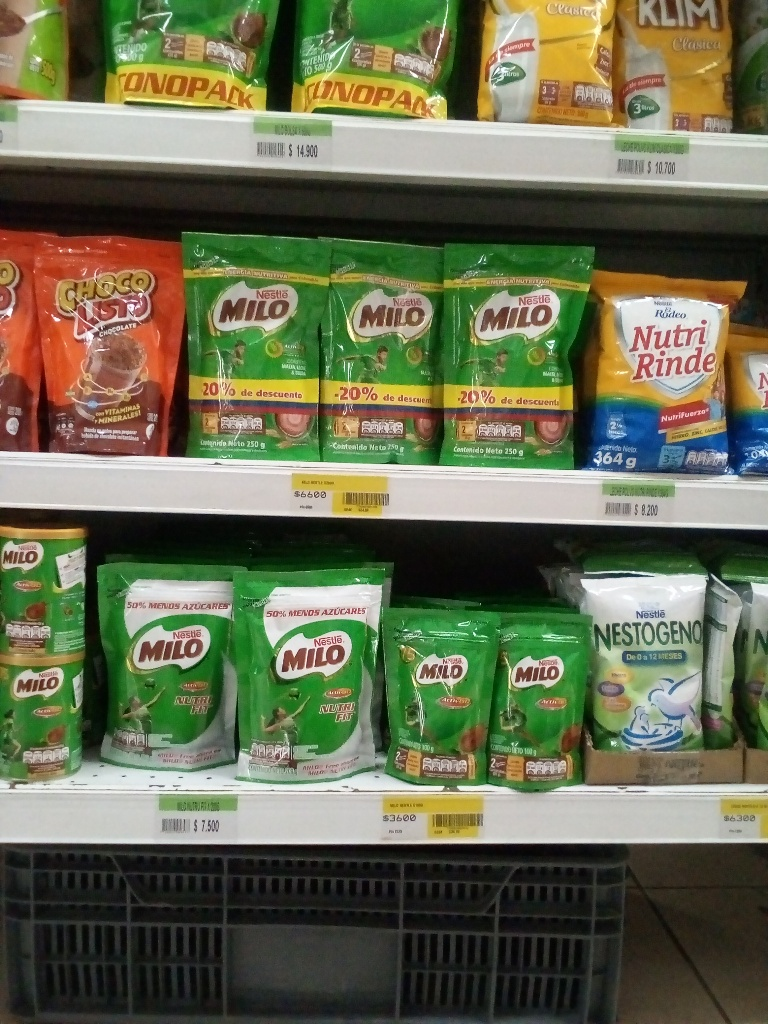COL0170203DYP10000: (489, 610, 592, 795)
COL0170203DYP25000: (440, 239, 594, 471)
COL0170203DYP50000: (280, 0, 458, 116)
COL0170203LAT20000: (0, 652, 89, 780)
COL0170205DYP20000: (237, 557, 391, 788)
